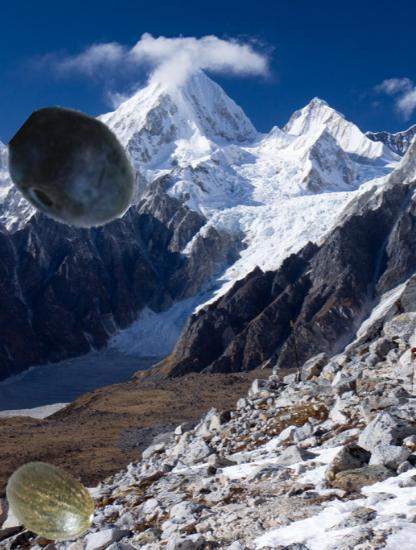Blueberry: (7, 102, 142, 237)
Melon: (5, 454, 99, 548)
